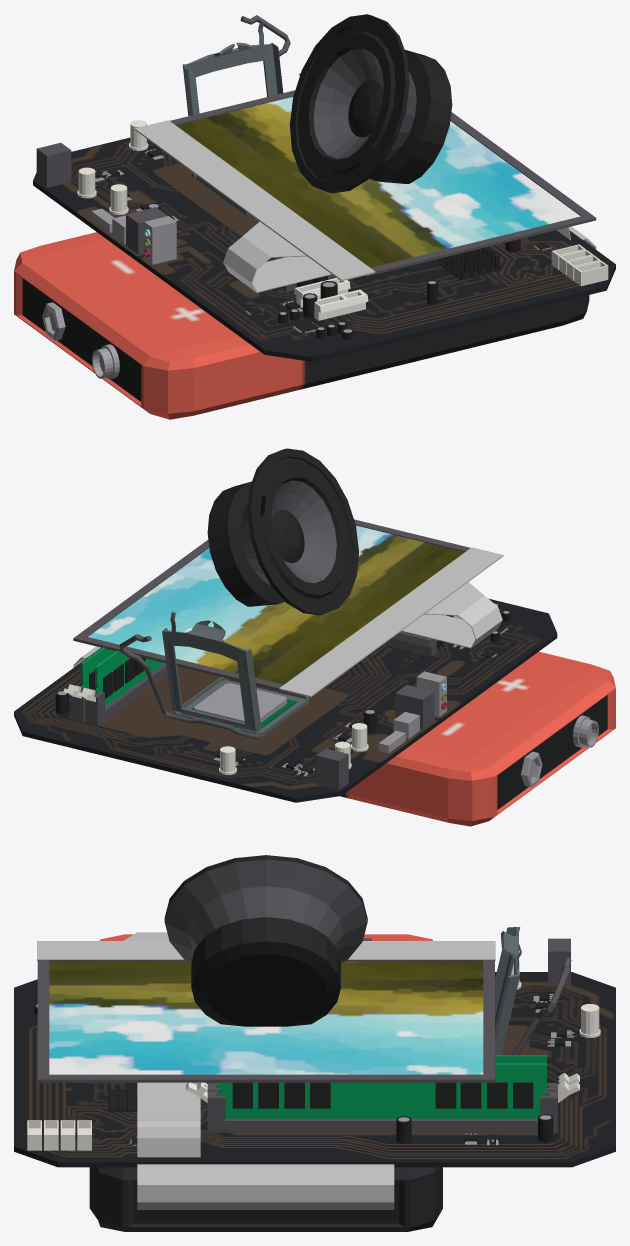
The model's file is Carriable computing module.fbx.
3 views of the same model, one above another, from view 1: azimuth 30°, elevation 25°; view 2: azimuth 150°, elevation 25°; view 3: azimuth 270°, elevation 25° (orthographic). The views are drawn at different scales.
Visible parts, largest first — view 1: carriable_computing_module; view 2: carriable_computing_module; view 3: carriable_computing_module.
Boxes of the visible parts, x1,y1,x2,y2 form: carriable_computing_module: (14,14,615,419); carriable_computing_module: (14,448,615,826); carriable_computing_module: (14,855,615,1231).
Bounding box in the file's own units: 1.63 × 0.9147 × 1.63.
